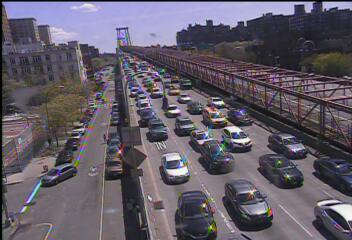neg: (147, 49, 174, 86), (106, 126, 131, 159), (232, 177, 256, 209), (42, 22, 66, 54), (162, 176, 184, 205), (49, 71, 67, 95), (182, 30, 199, 53), (92, 73, 109, 95), (90, 175, 106, 196), (121, 60, 128, 68)
